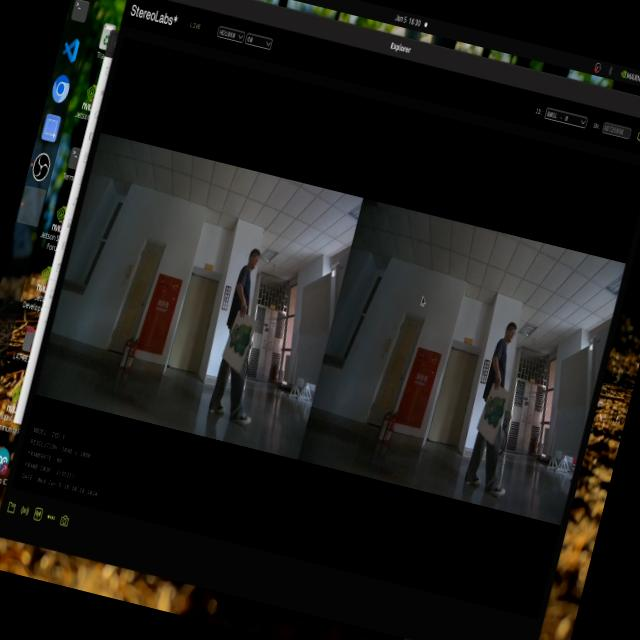green: (221, 316, 261, 368), (481, 392, 508, 431)
